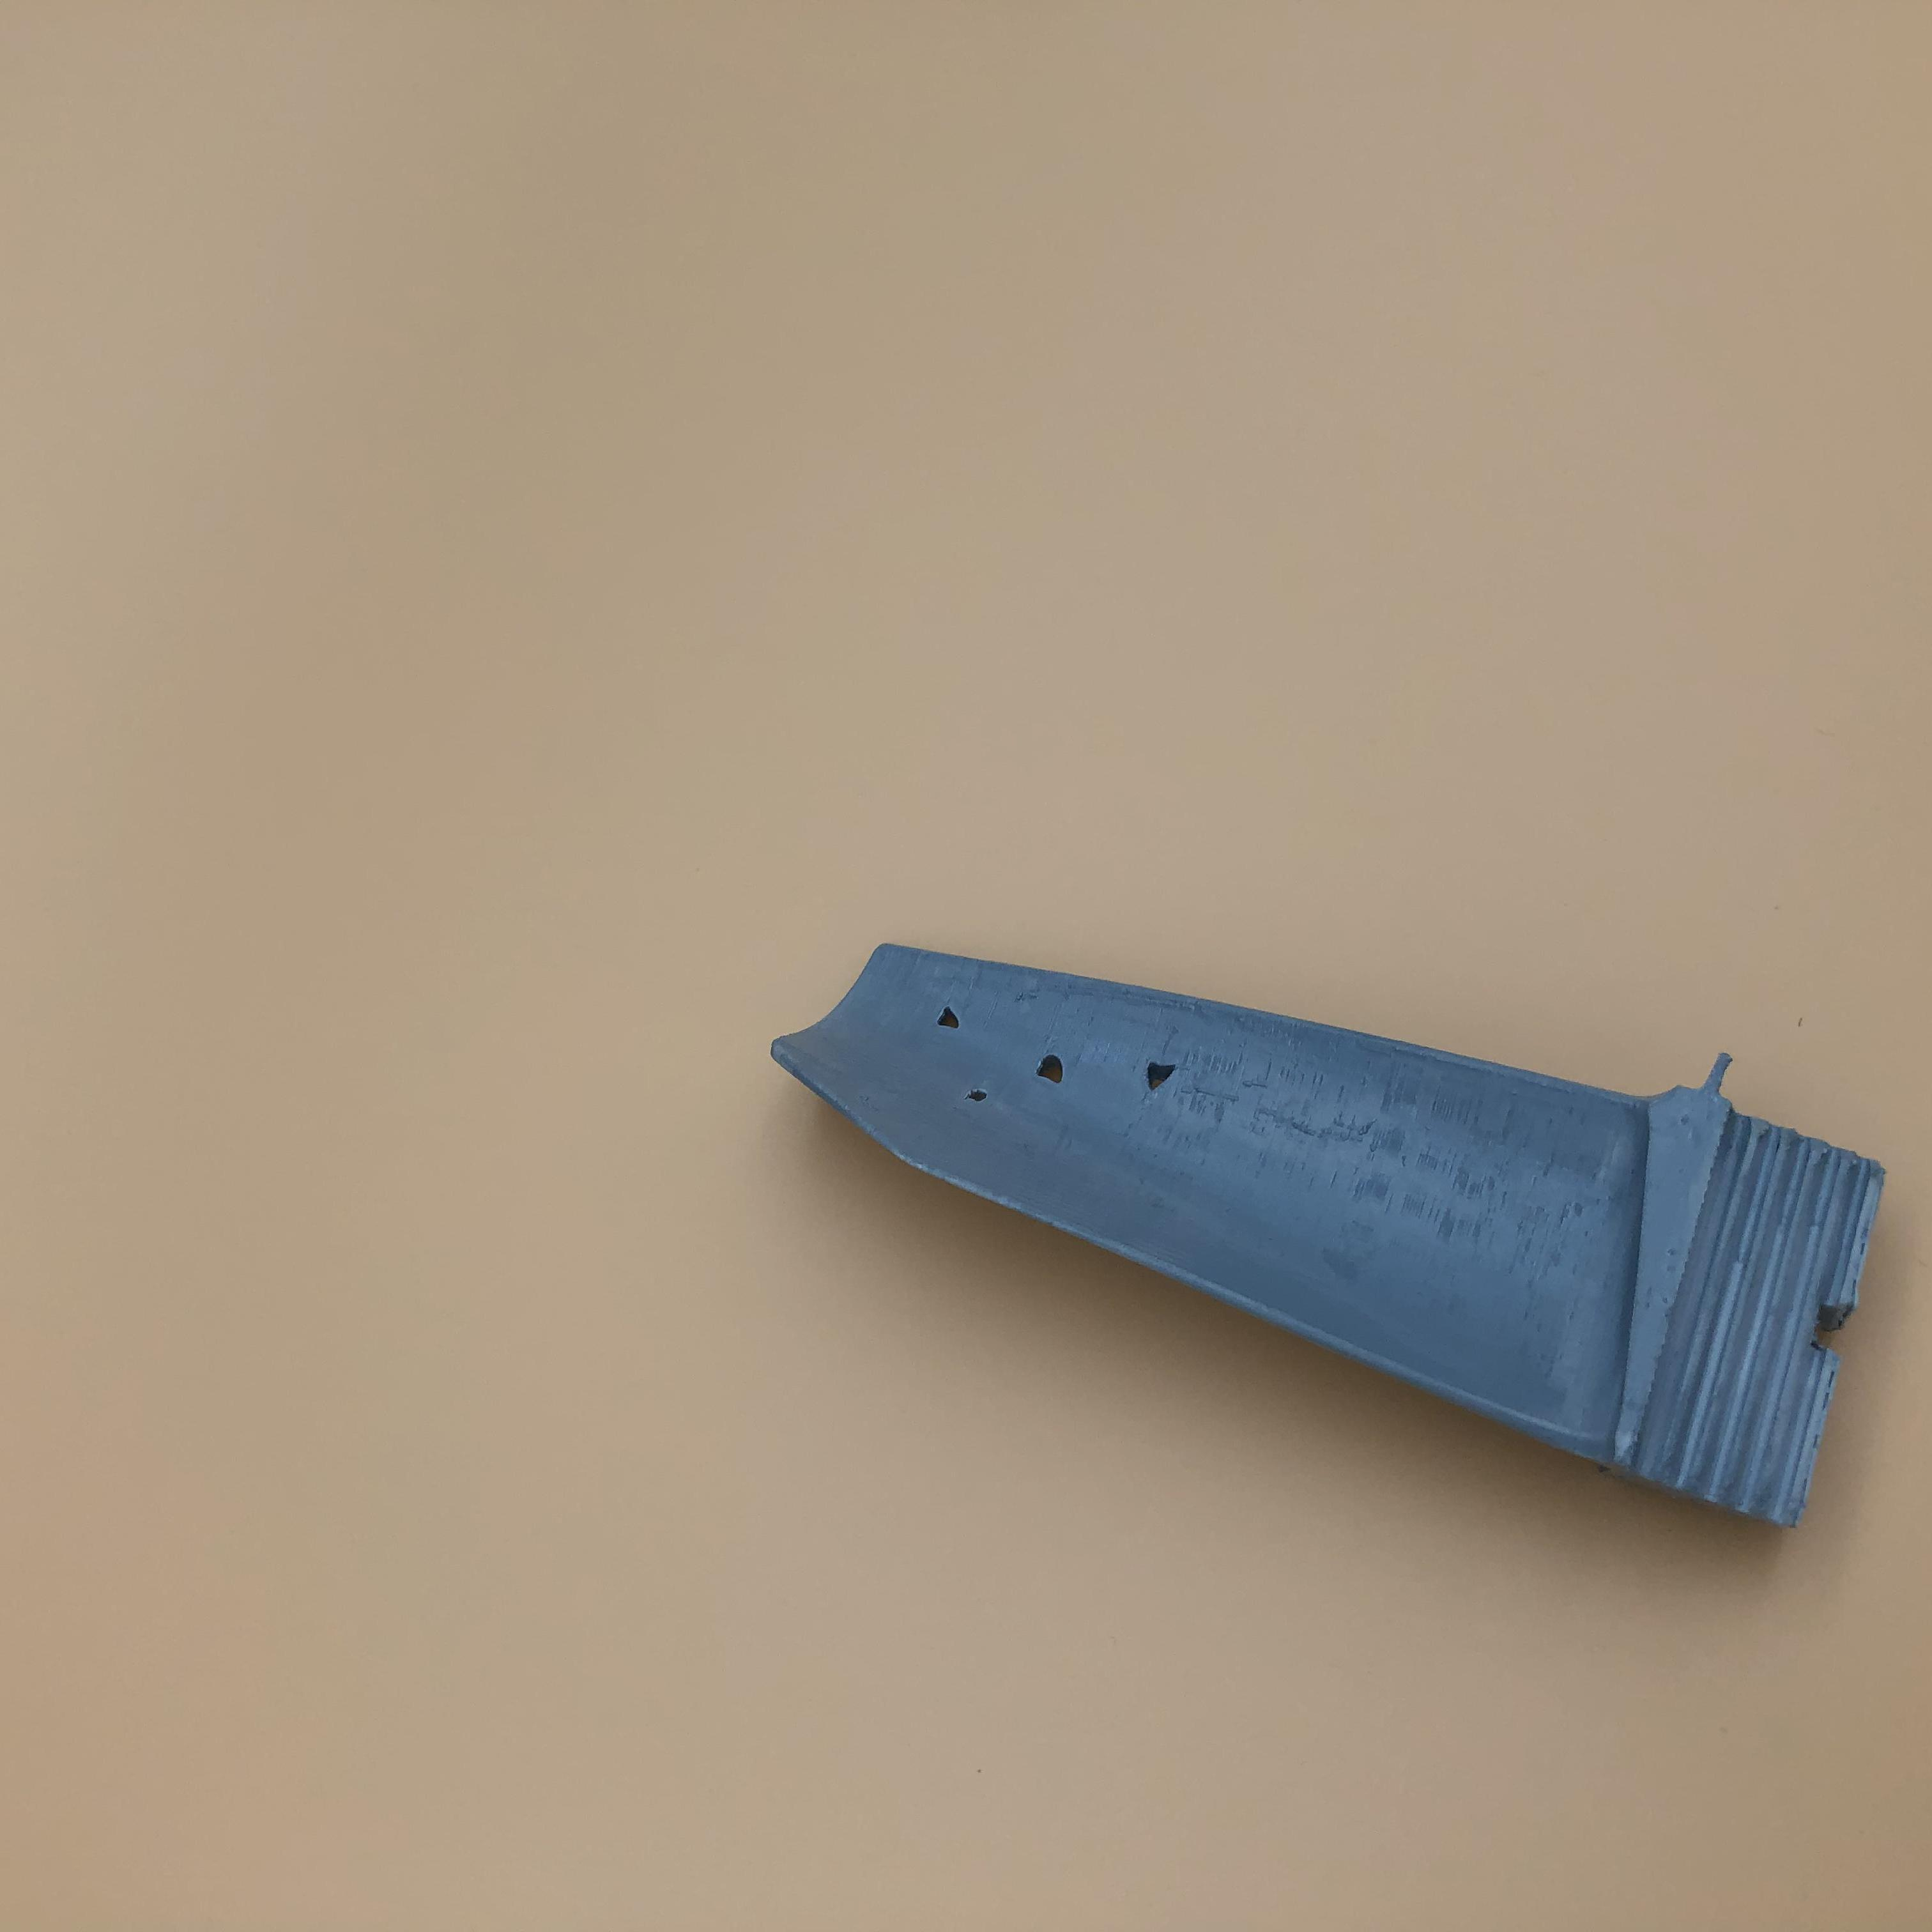breakdown: (931, 1001, 1194, 1113)
